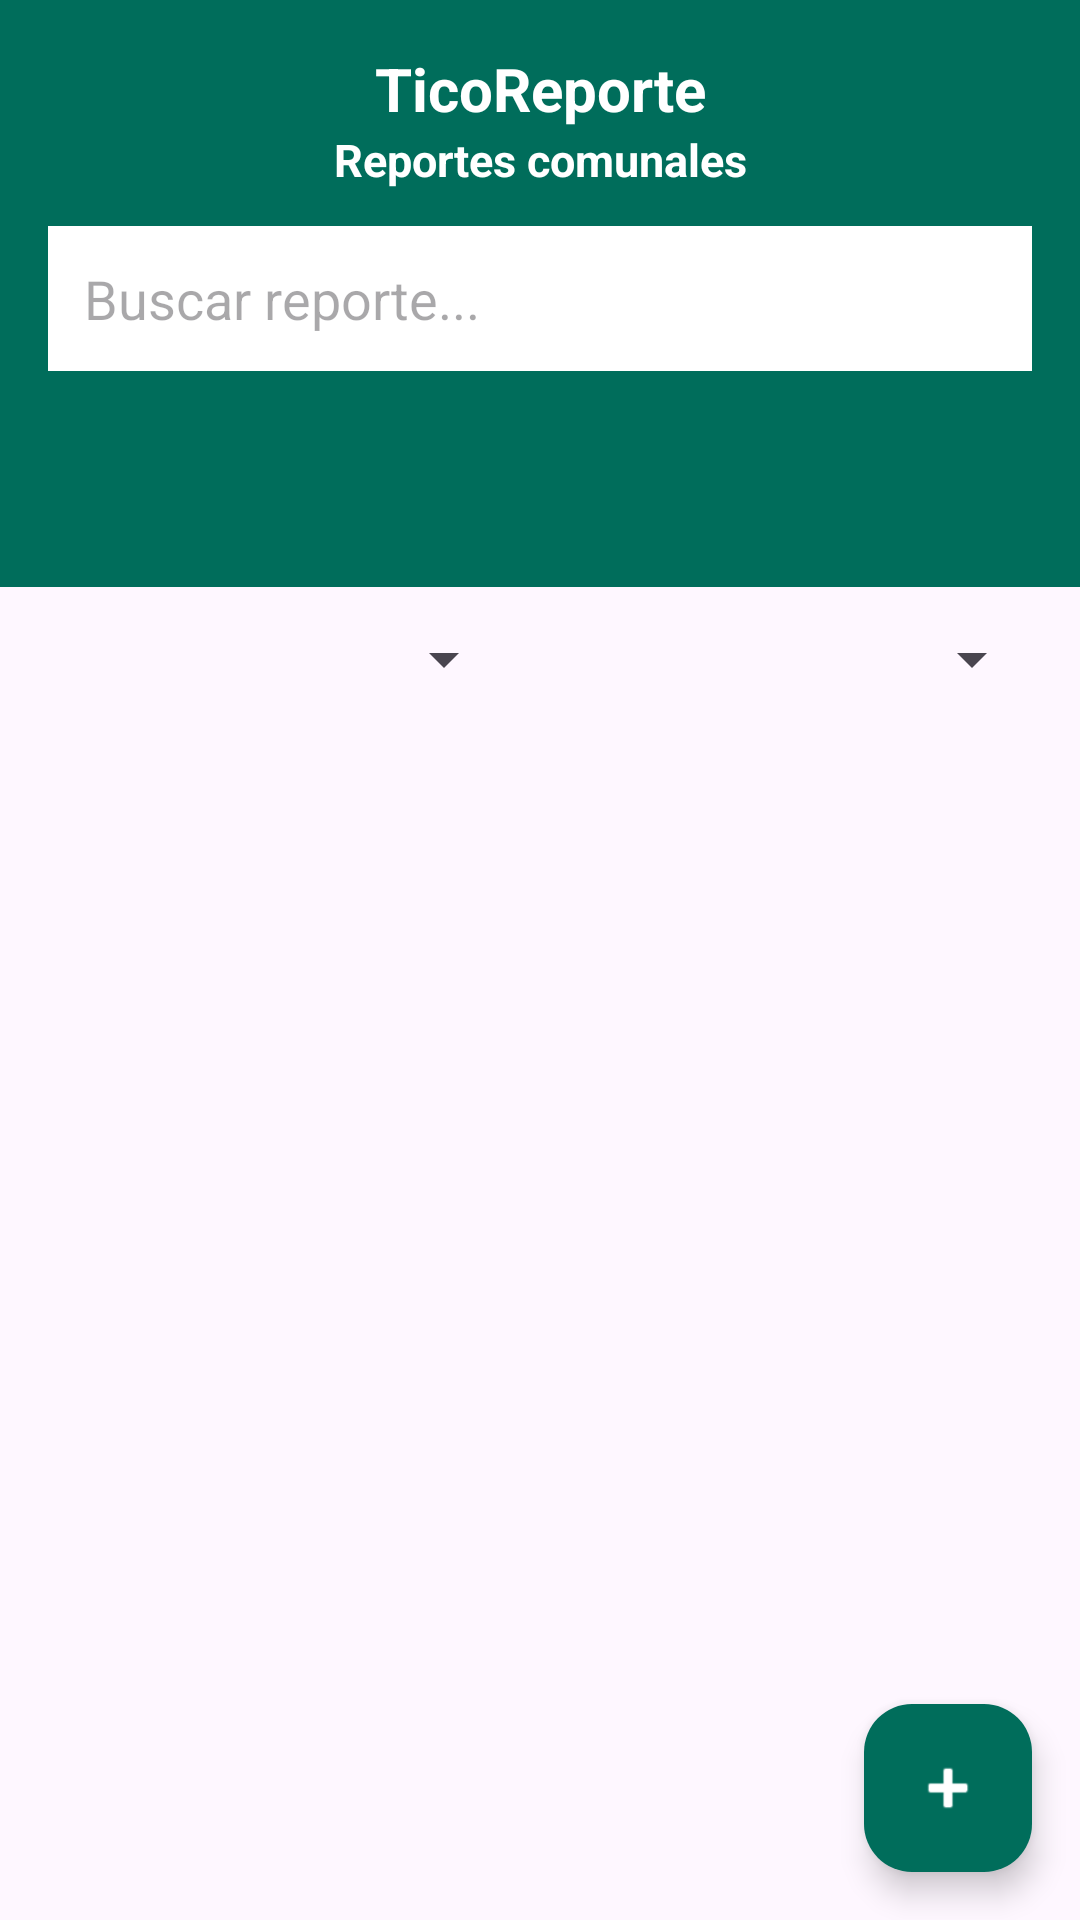

Screen size 1080px×1920px. Icon name, then its center in pixels as point (x, y):
Agregar nuevo reporte: point (948, 1788)
